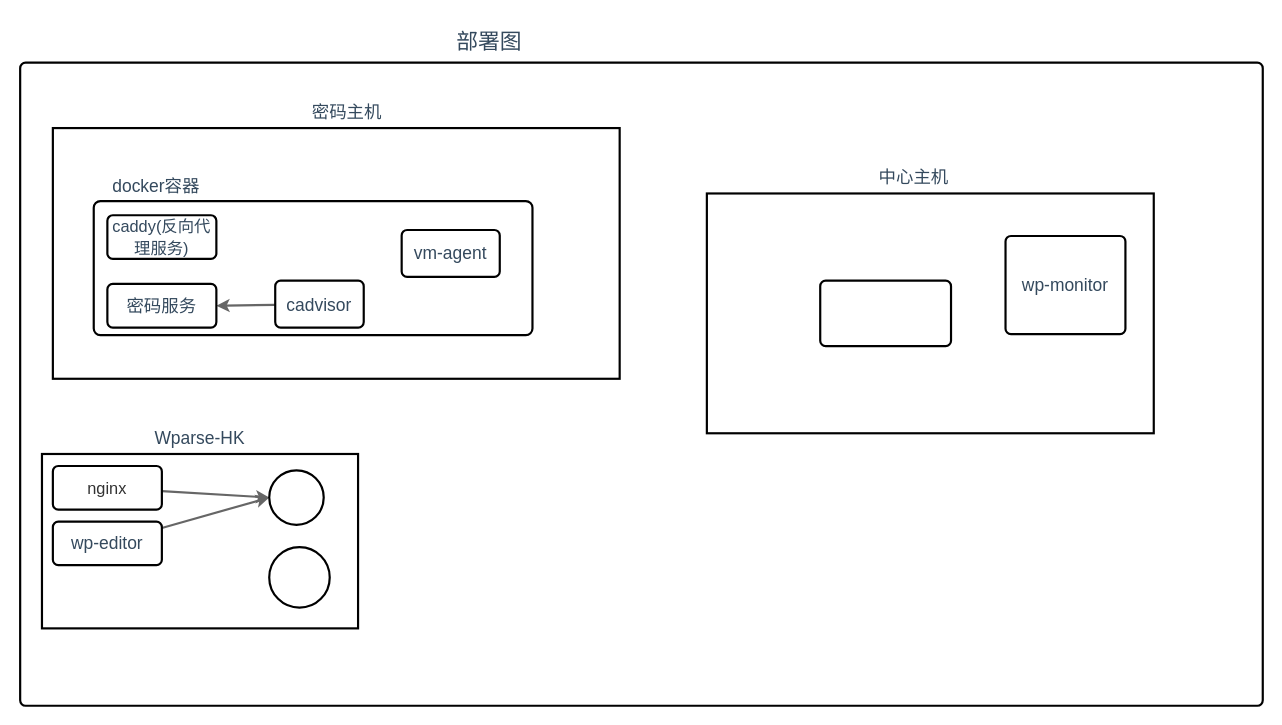
Image size: 1282x725. Some labels were removed from this diagram. The centre of each missing label's shape, as x and y in pixels:
"FBT" goes at (296,497).
"vm agent" goes at (299,577).
"Vmetrics" goes at (885,313).
